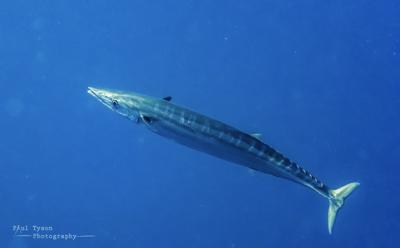Scombridae -Tunas-: (84, 84, 364, 238)
